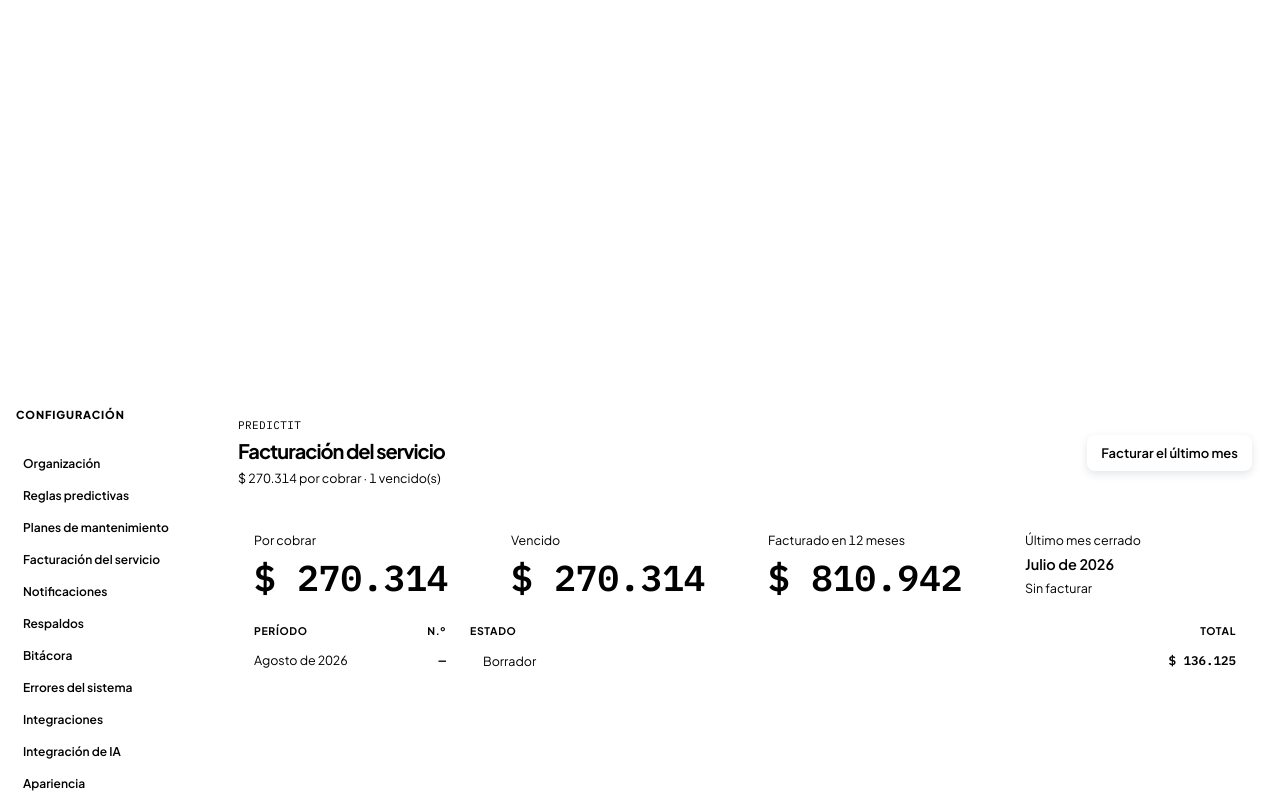
Test: Facturación del servicio › el desglose suma el total que se muestra
(page scrolled)
Step 1. Click the cell "Agosto de 2026" → (313, 660), box [238,649,388,671]
(page scrolled)
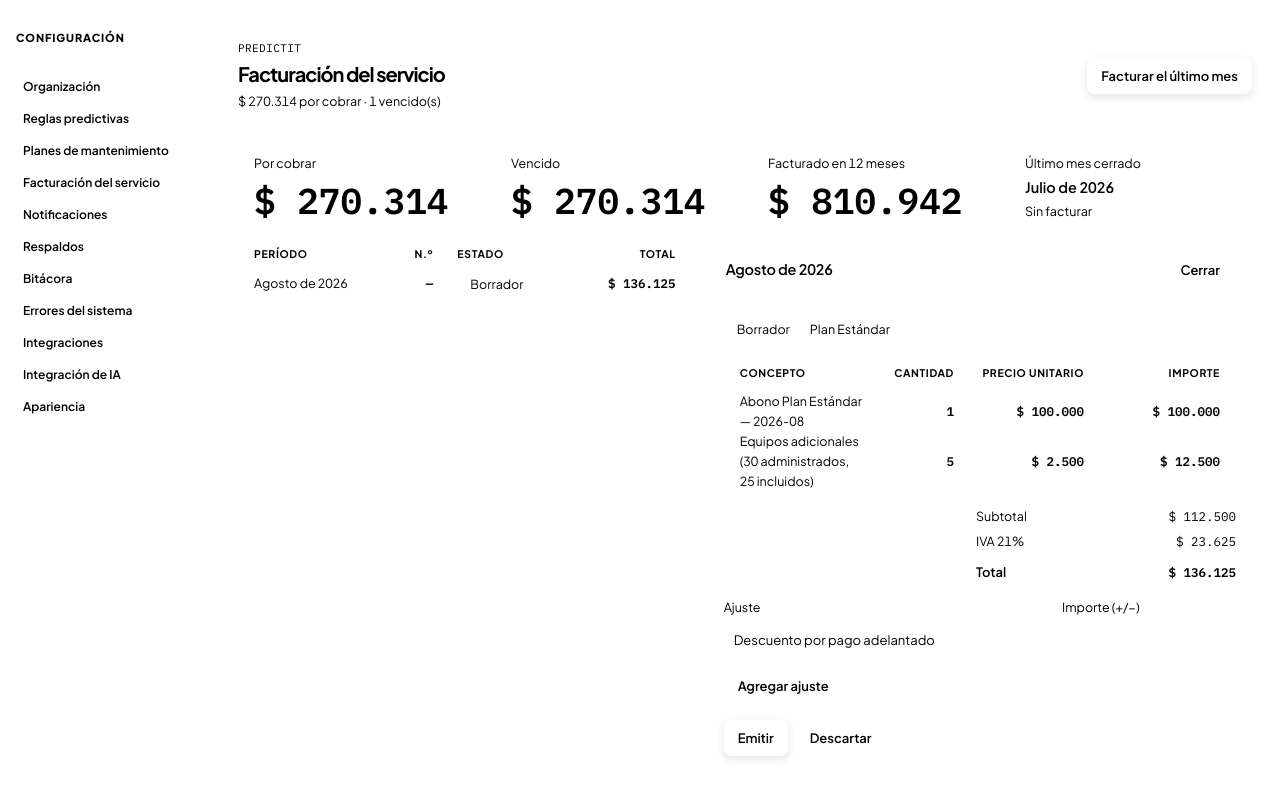
Expected: the button "Cerrar" is shown, [1166,252,1234,288]
Expected: the text "Abono Plan Estándar — 2026-08" is shown, [724,391,876,431]
Expected: the text "Equipos adicionales (30 administrados, 25 incluidos)" is shown, [724,431,876,491]
